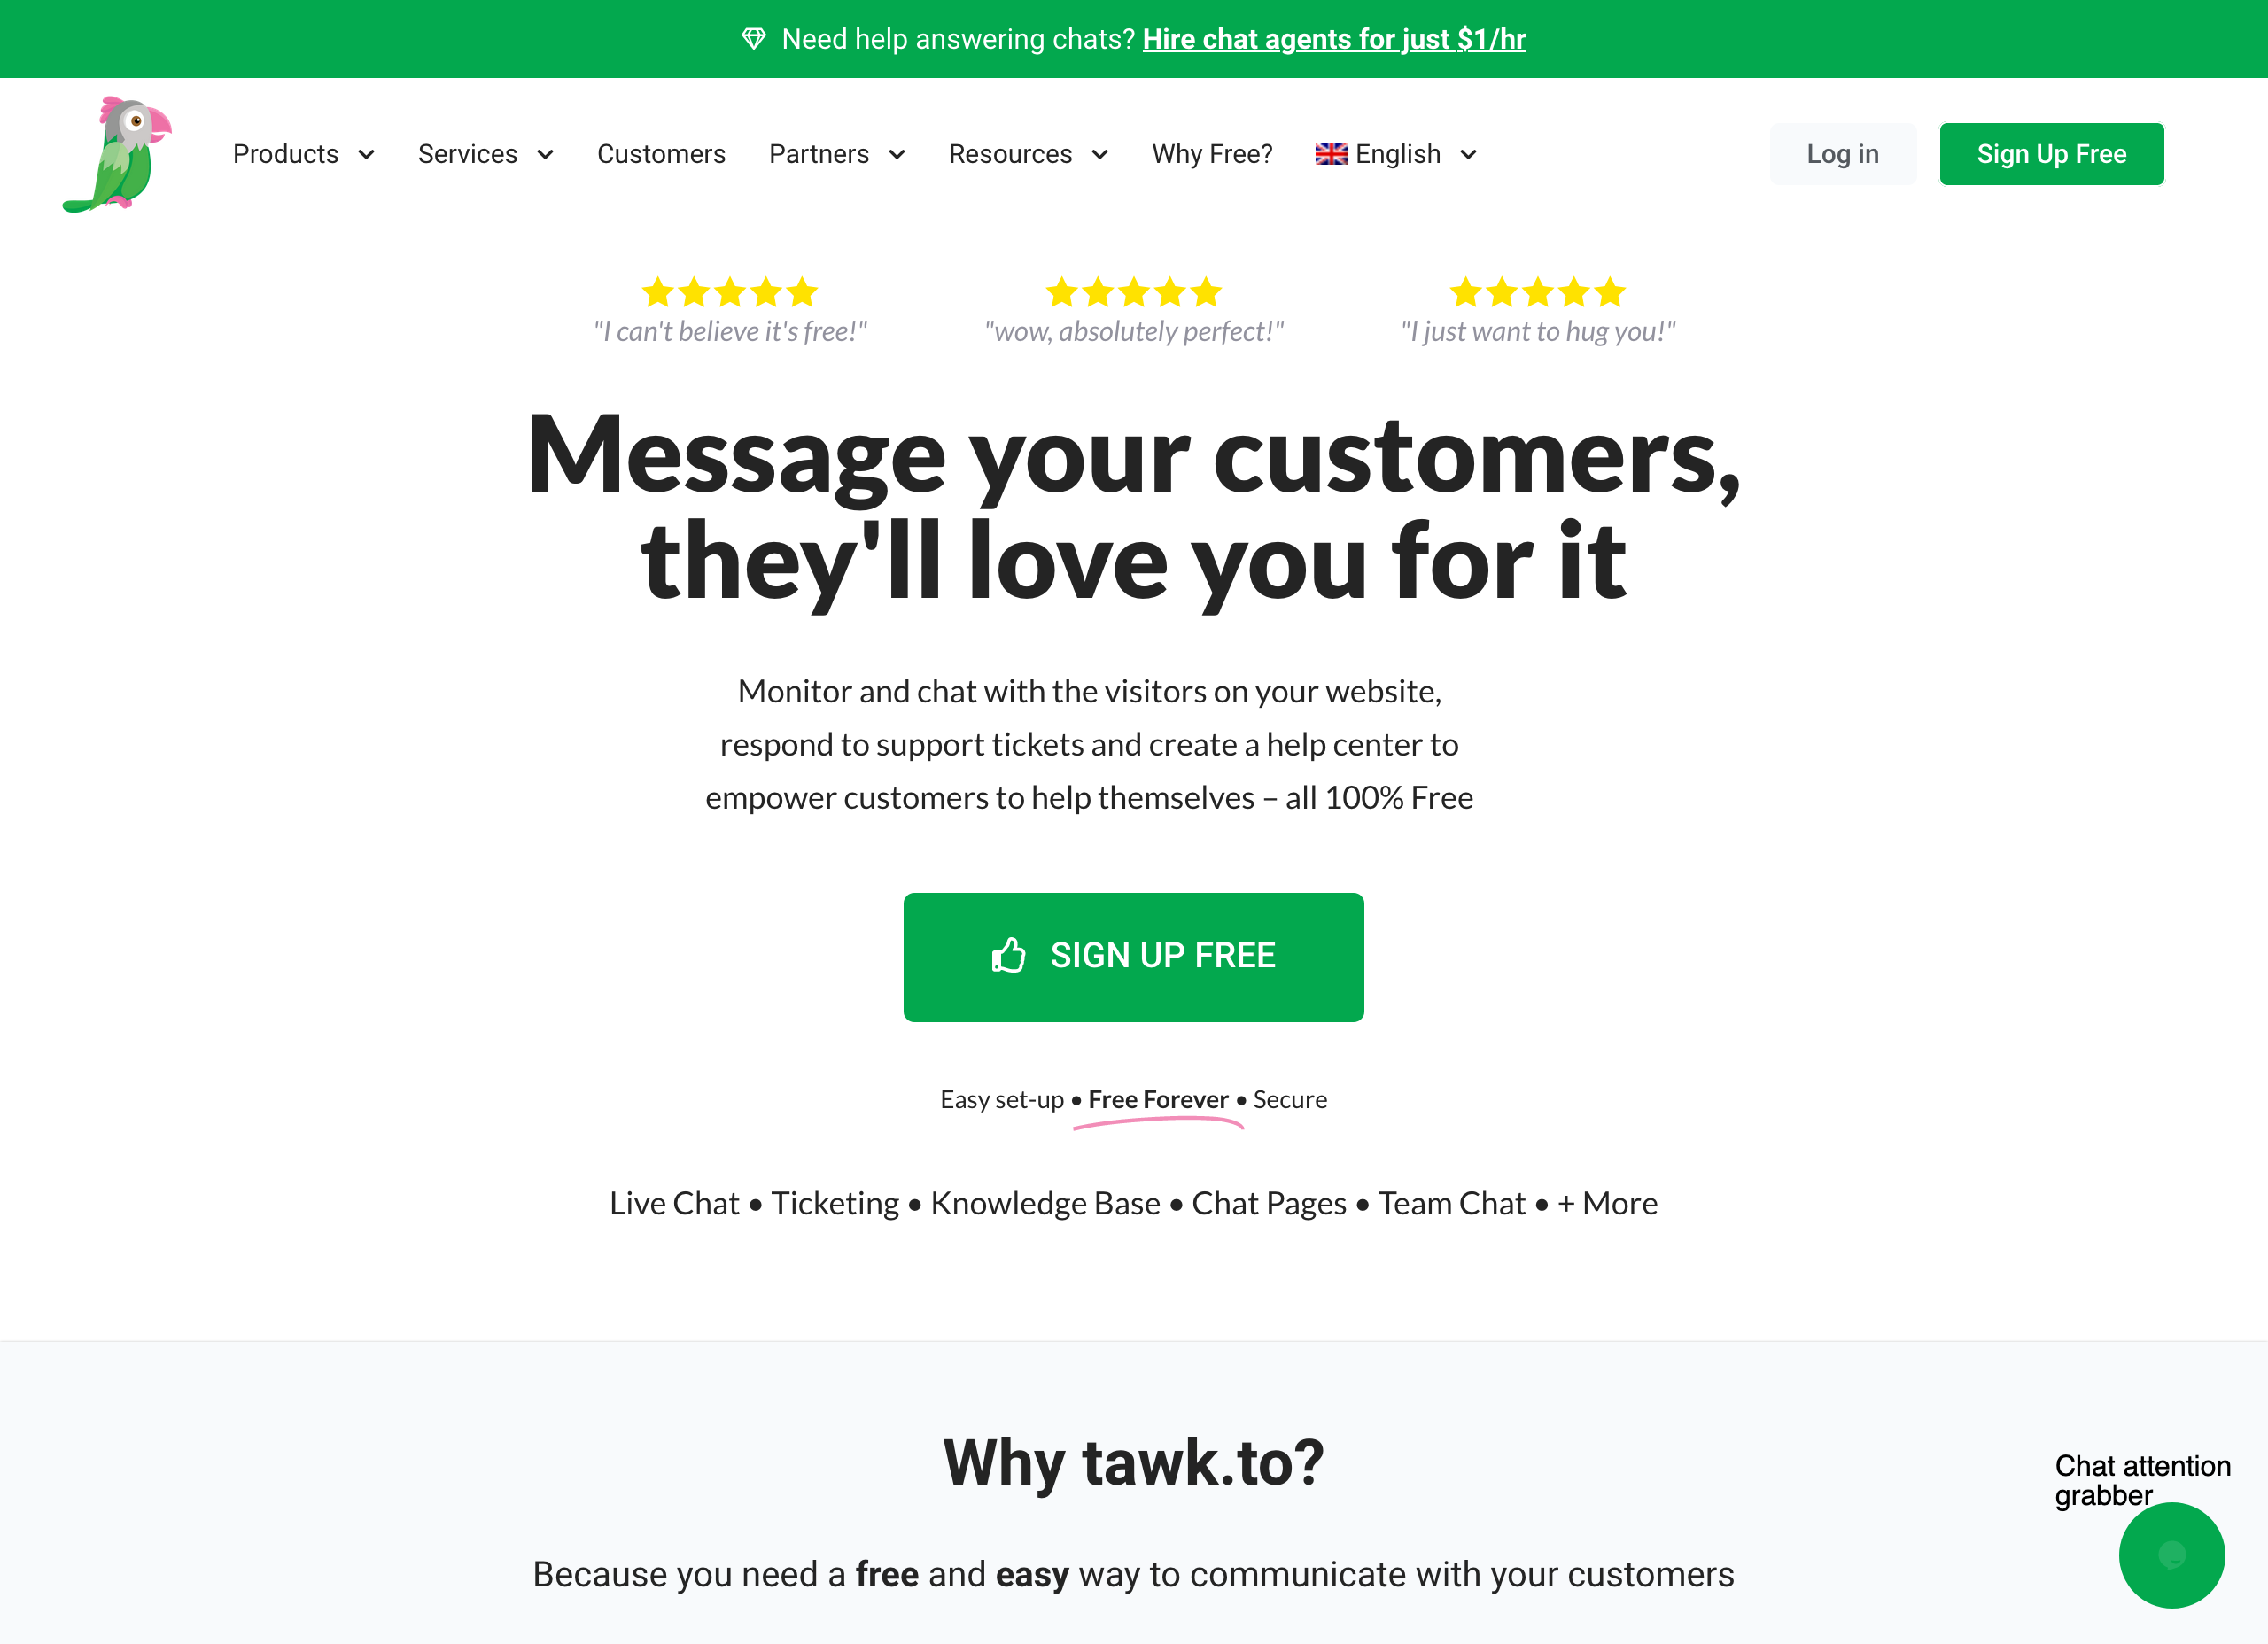Login: (1759, 114, 1923, 190)
